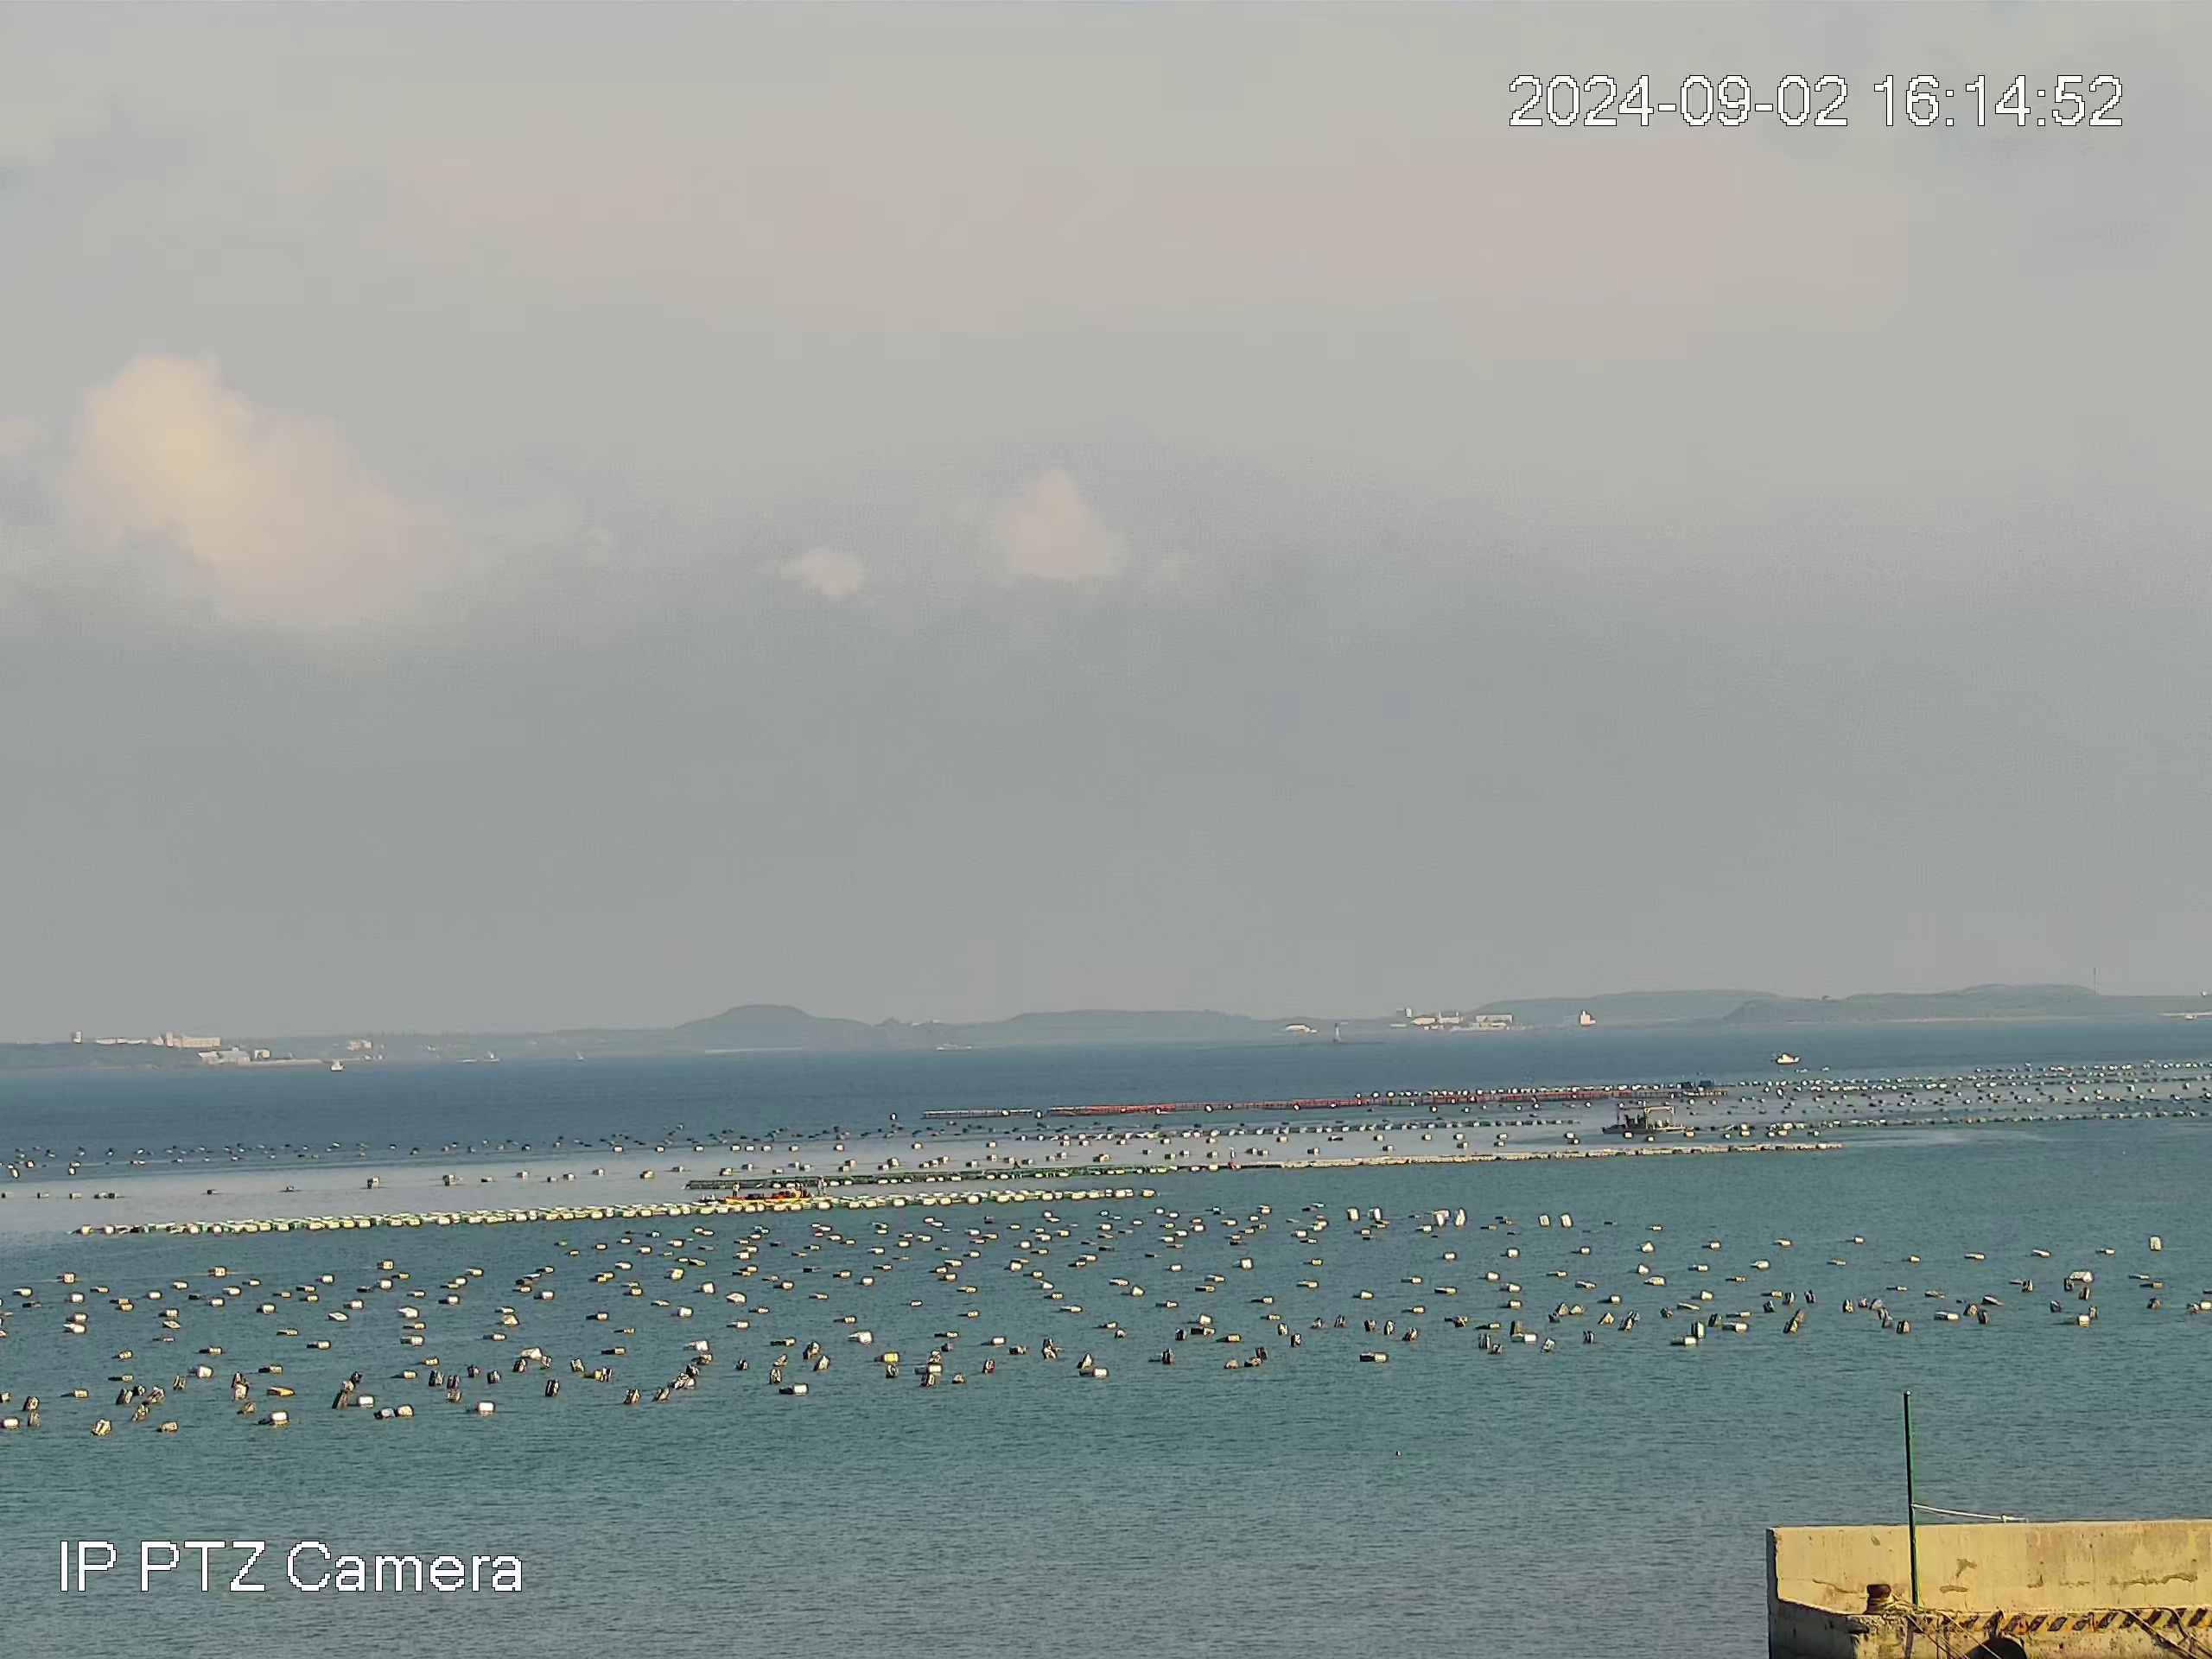boat: (1601, 1105, 1686, 1136), (723, 1180, 813, 1204), (1773, 1051, 1801, 1065)
